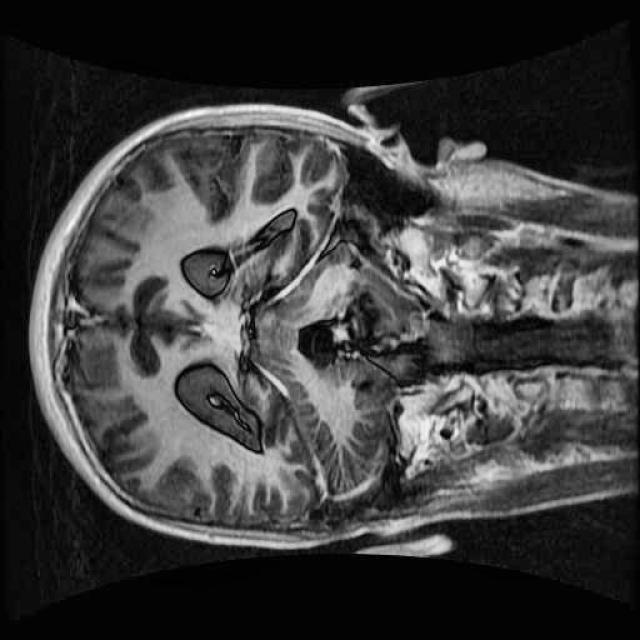Non-Tumor: (280, 284, 441, 419)
